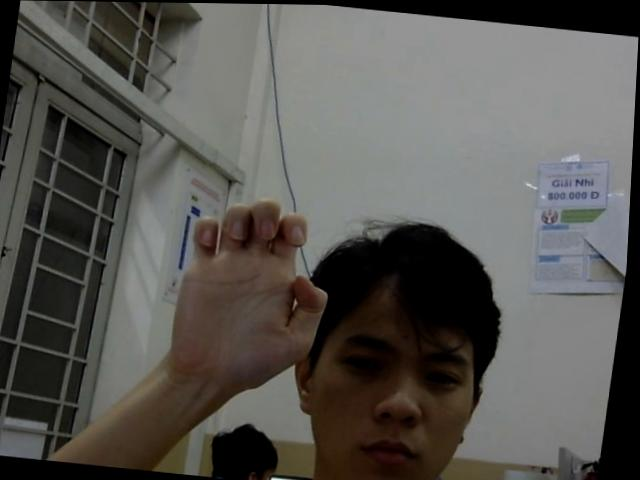E: (168, 189, 343, 388)
